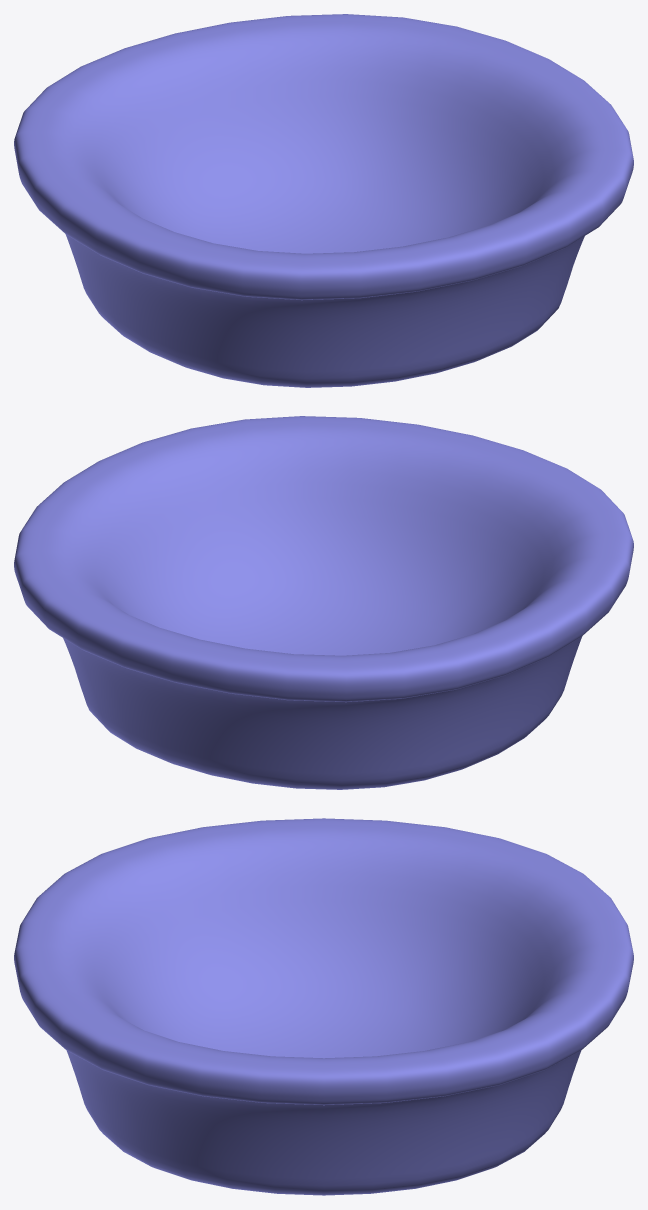
The model's file is tazik.fbx.
3 views of the same model, one above another, from view 1: azimuth 30°, elevation 25°; view 2: azimuth 150°, elevation 25°; view 3: azimuth 270°, elevation 25° (orthographic). The views are drawn at different scales.
Parts seen in each view (by area): view 1: Cube; view 2: Cube; view 3: Cube.
Boxes of the visible parts, x1,y1,x2,y2 form: Cube: (14, 14, 633, 387); Cube: (14, 416, 633, 789); Cube: (14, 818, 633, 1195).
Size of the model in its own units: 564 by 163 by 564.
